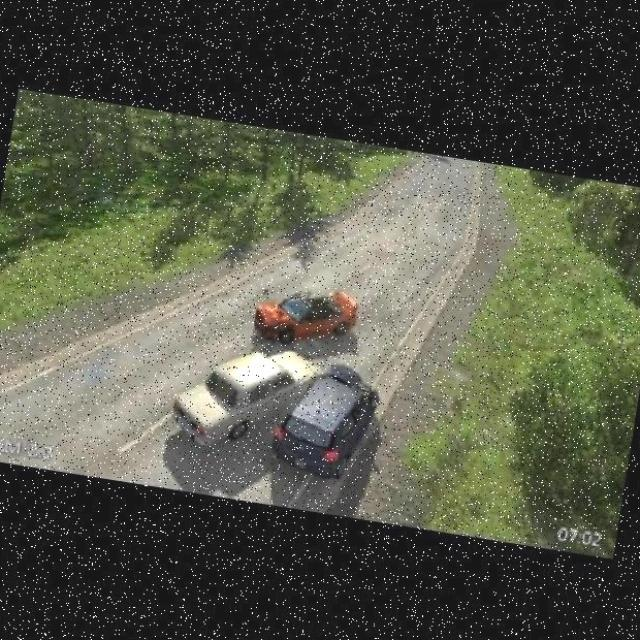accident: (193, 327, 404, 502)
